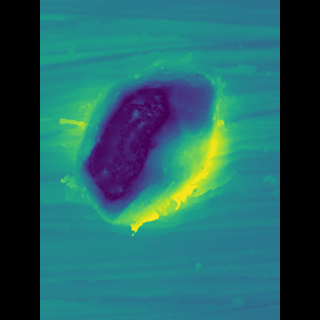Loch: (85, 51, 223, 240)
